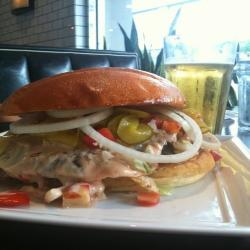burger: (5, 65, 218, 206)
